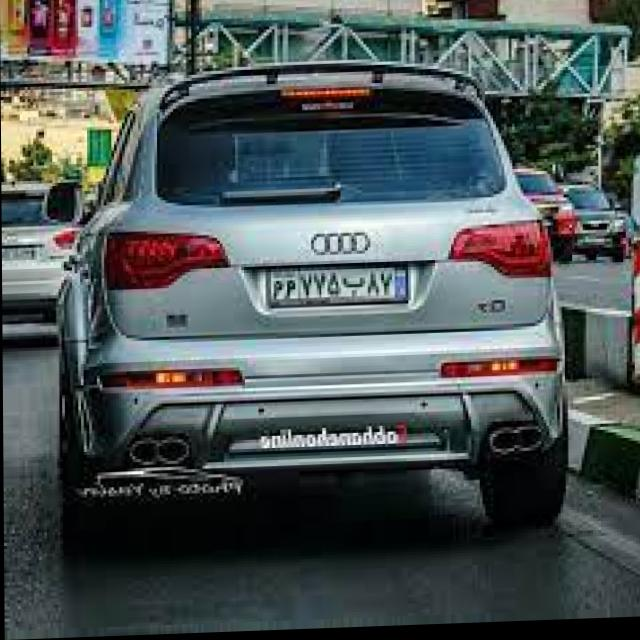licence: (260, 261, 419, 311), (7, 238, 39, 260)
